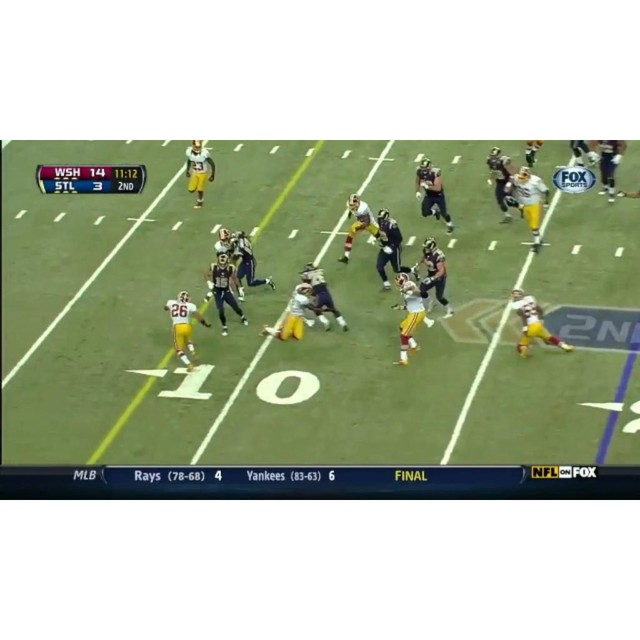american-football-player: (506, 287, 573, 359), (371, 206, 418, 293), (390, 274, 430, 366), (204, 253, 248, 334), (300, 261, 349, 333), (164, 292, 210, 368), (510, 168, 551, 249), (259, 285, 314, 342), (339, 193, 382, 264), (231, 230, 275, 298), (417, 240, 454, 318), (415, 159, 454, 233), (485, 147, 517, 223), (594, 141, 630, 204), (184, 141, 216, 209), (524, 140, 544, 167)
